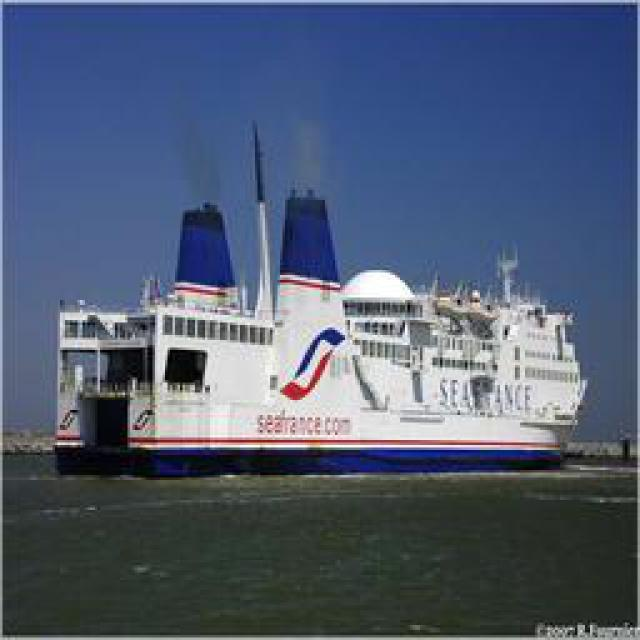Ship: (42, 120, 585, 460)
